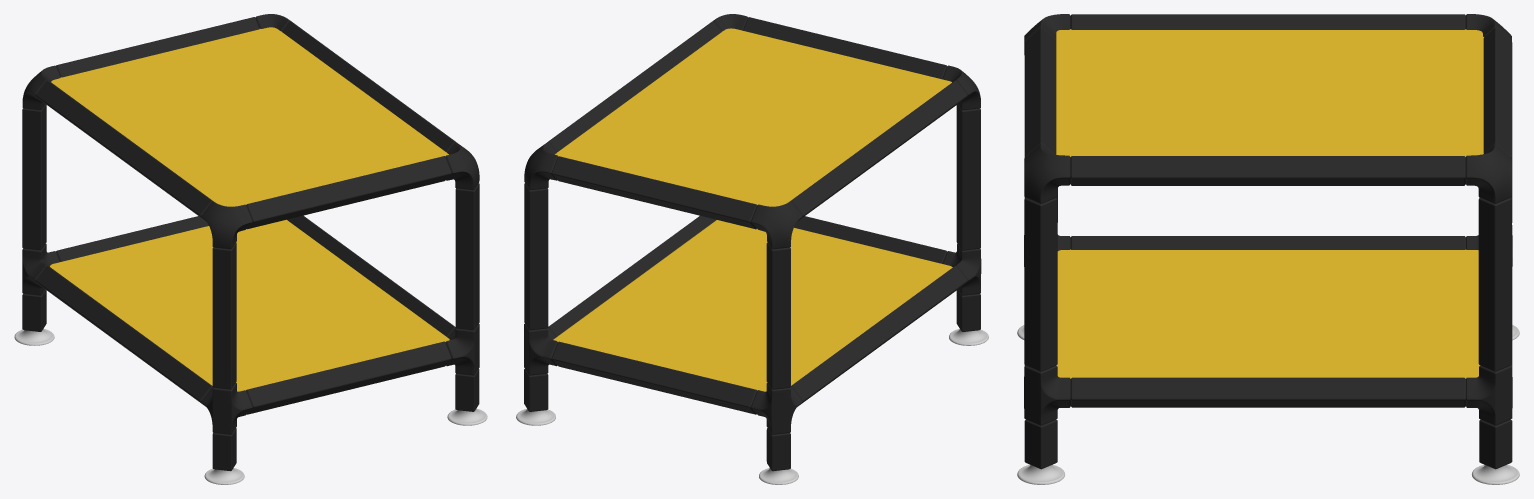
3 views of the same model, side by side, from view 1: azimuth 30°, elevation 25°; view 2: azimuth 150°, elevation 25°; view 3: azimuth 270°, elevation 25° (orthographic). The views are drawn at different scales.
Parts seen in each view (by area): view 1: 229x329x154; view 2: 229x329x154; view 3: 229x329x154.
Part boxes in pixels (x1,y1,x2,y2): 229x329x154: (14, 14, 487, 484); 229x329x154: (516, 14, 988, 484); 229x329x154: (1017, 14, 1519, 484).
Bounding box in the file's own units: 0.3189 × 0.2933 × 0.4182.
